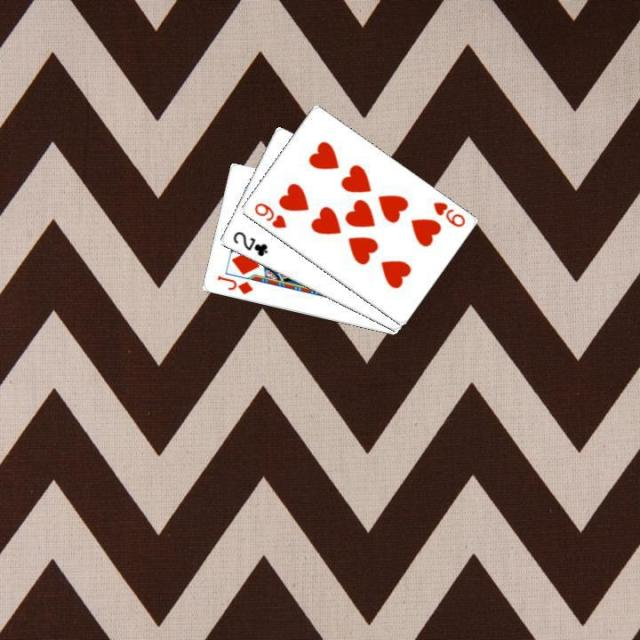2C: (228, 228, 270, 258)
9H: (428, 198, 466, 230), (250, 199, 288, 230)
JD: (212, 271, 255, 297)
